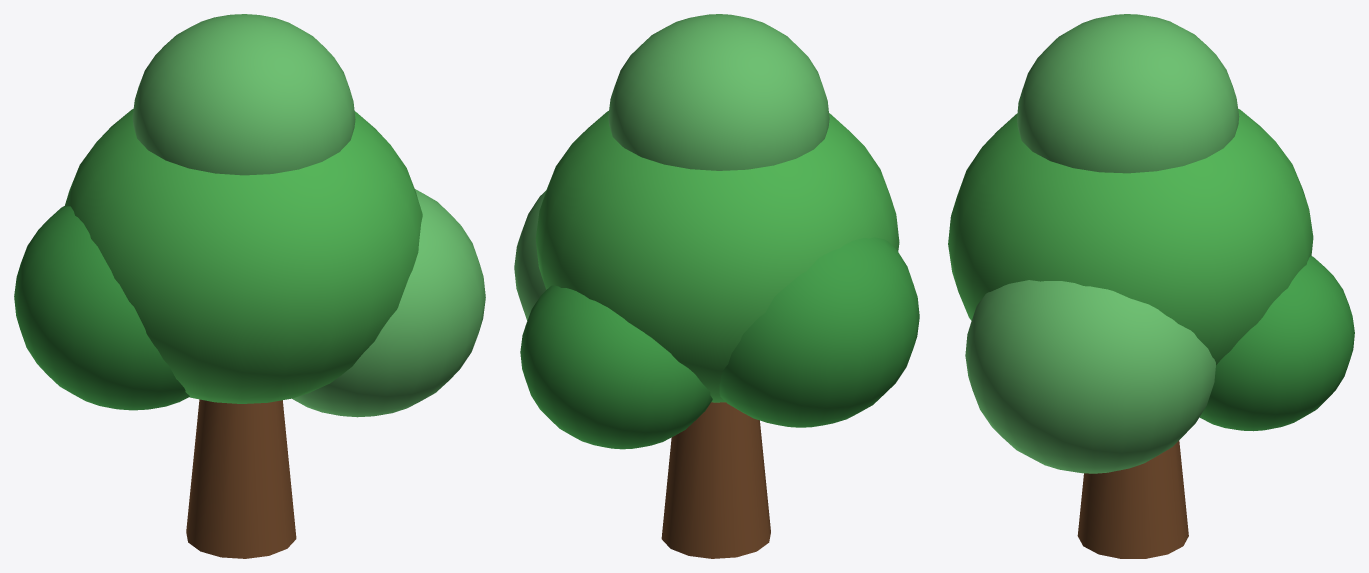
Rendered from tree_round.glb.
3 views of the same model, side by side, from view 1: azimuth 30°, elevation 25°; view 2: azimuth 150°, elevation 25°; view 3: azimuth 270°, elevation 25° (orthographic).
Parts seen in each view (by area): view 1: Leaves, Tree; view 2: Leaves, Tree; view 3: Leaves, Tree.
Part boxes in pixels (x1,y1,x2,y2): Leaves: (14,14,485,417); Tree: (186,399,296,558); Leaves: (514,14,919,449); Tree: (661,402,770,558); Leaves: (948,14,1354,473); Tree: (1077,440,1188,558).
Size of the model in its own units: 0.8278 by 0.996 by 0.7185.
